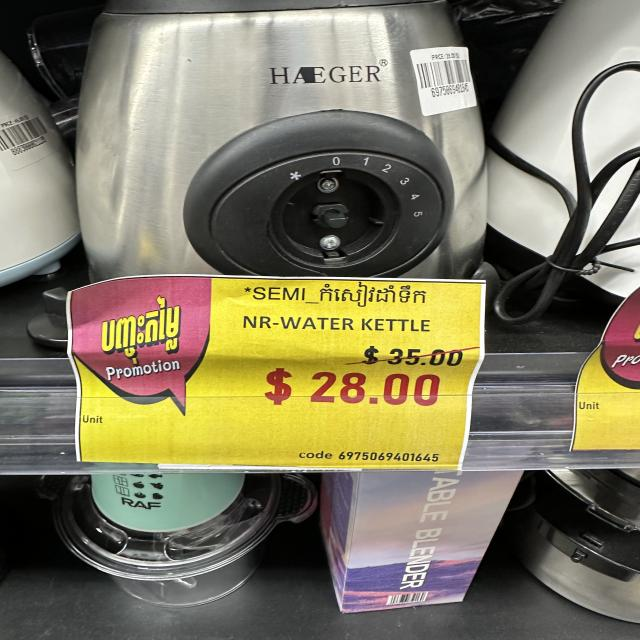138: (258, 361, 444, 410)
Yolov11kh: (87, 288, 187, 371), (311, 279, 437, 310)
